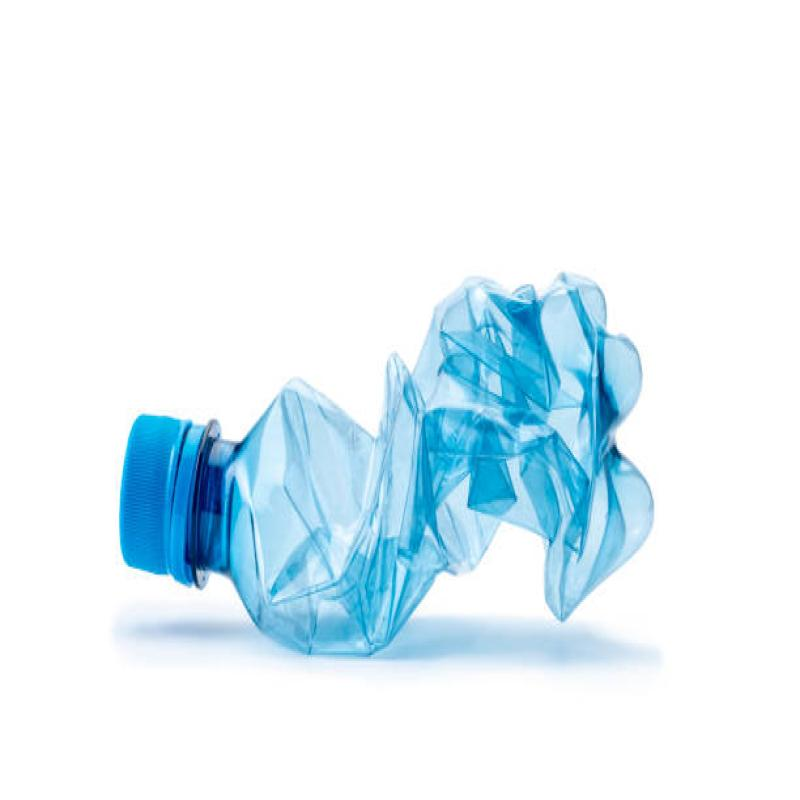plastic bottle: (118, 271, 658, 661)
